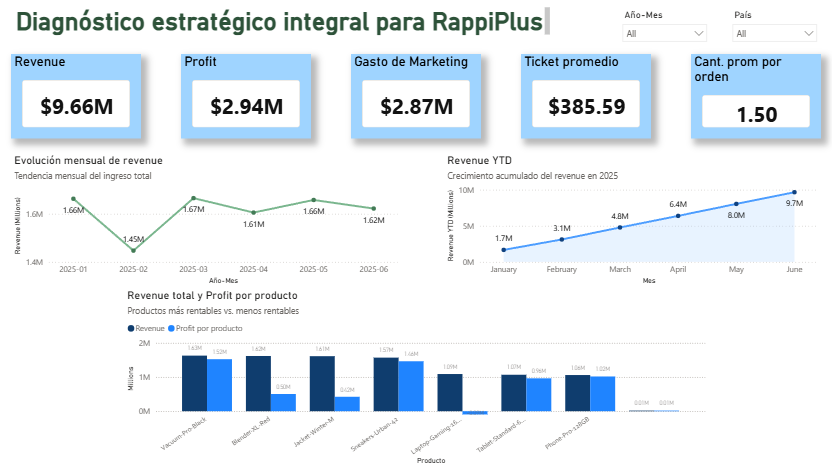

What the dashboard file says about the page in this screenshot:
{"tool":"powerbi","page":{"name":"Overview","canvas":[1280,720],"ordinal":0},"visuals":[{"type":"cardVisual","title":"Revenue","fields":{"Data":["orders_clean.revenue_limpio"]},"box":[17.5,85,200,130],"z":0},{"type":"cardVisual","title":"Profit","fields":{"Data":["orders_clean.profit"]},"box":[279.1,85,200,130],"z":1000},{"type":"cardVisual","title":"Gasto de Marketing","fields":{"Data":["orders_clean.gasto_marketing"]},"box":[540.6,85,200,130],"z":2000},{"type":"slicer","fields":{"Values":["Calendar.YearMonth"]},"box":[948.2,10.9,150,60],"z":3000},{"type":"slicer","fields":{"Values":["orders_clean.pais"]},"box":[1116.4,10.9,150,59.1],"z":4000},{"type":"lineChart","title":"Evolución mensual de revenue","fields":{"Category":["Calendar.YearMonth"],"Y":["Sum(orders_clean.revenue)"]},"box":[16.2,238.5,600,205],"z":5000},{"type":"lineChart","title":"Revenue YTD","fields":{"Category":["Calendar.MonthName"],"Y":["orders_clean.revenue_YTD"]},"box":[683.8,238.5,580,205],"z":6000},{"type":"clusteredColumnChart","title":"Revenue total y Profit por producto","fields":{"Category":["orders_clean.nombre_producto"],"Y":["Sum(orders_clean.revenue)","Sum(orders_clean.profit_por_producto)"]},"box":[190,446,900,274],"z":7000},{"type":"cardVisual","title":"Ticket promedio","fields":{"Data":["orders_clean.ticket_promedio"]},"box":[802.2,85,200,130],"z":8000},{"type":"cardVisual","title":"Cant. prom por orden","fields":{"Data":["orders_clean.cant_prom_por_orden"]},"box":[1063.8,85,200,130],"z":9000},{"type":"textbox","box":[20,7.5,831.2,52.5],"z":10000}]}

Visuals, with their boxes in screenshot pixels (x1, y1, x2, y2), scaled from the page's 1280x720 canvas onto the 832x467 screenshot:
"Revenue" cardVisual: [11,55,141,139]
"Profit" cardVisual: [181,55,311,139]
"Gasto de Marketing" cardVisual: [351,55,481,139]
slicer - Calendar.YearMonth: [616,7,714,46]
slicer - orders_clean.pais: [726,7,823,45]
"Evolución mensual de revenue" lineChart: [11,155,401,288]
"Revenue YTD" lineChart: [444,155,821,288]
"Revenue total y Profit por producto" clusteredColumnChart: [124,289,708,466]
"Ticket promedio" cardVisual: [521,55,651,139]
"Cant. prom por orden" cardVisual: [691,55,821,139]
textbox: [13,5,553,39]
